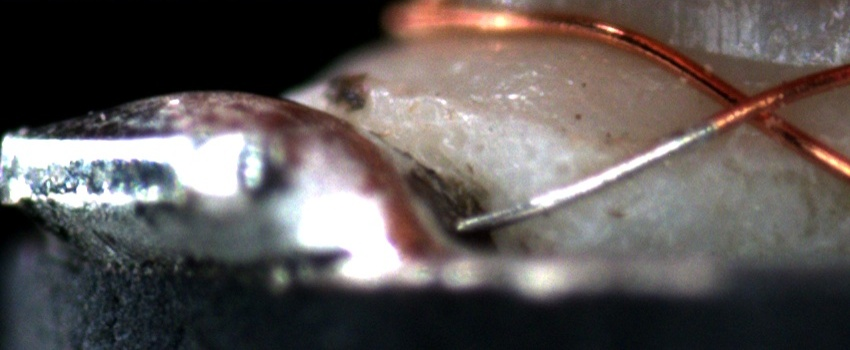CL: (699, 78, 795, 139)
TS: (450, 119, 718, 233)
